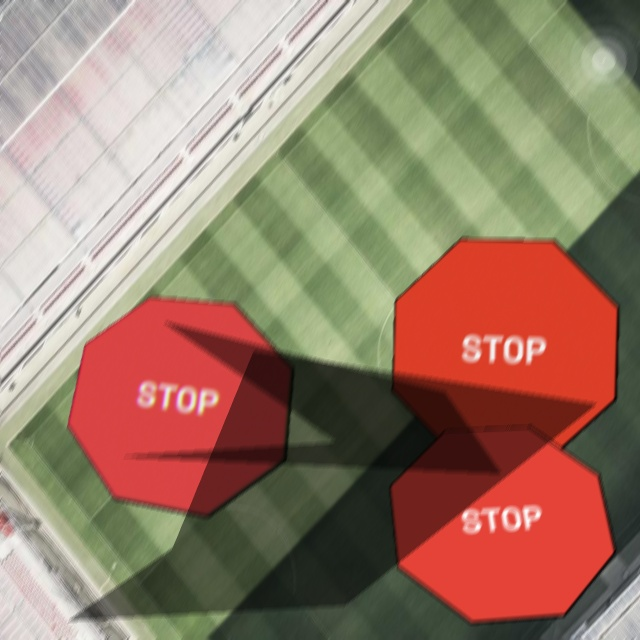STOP: (391, 239, 619, 463), (66, 297, 294, 519), (388, 427, 616, 625)
